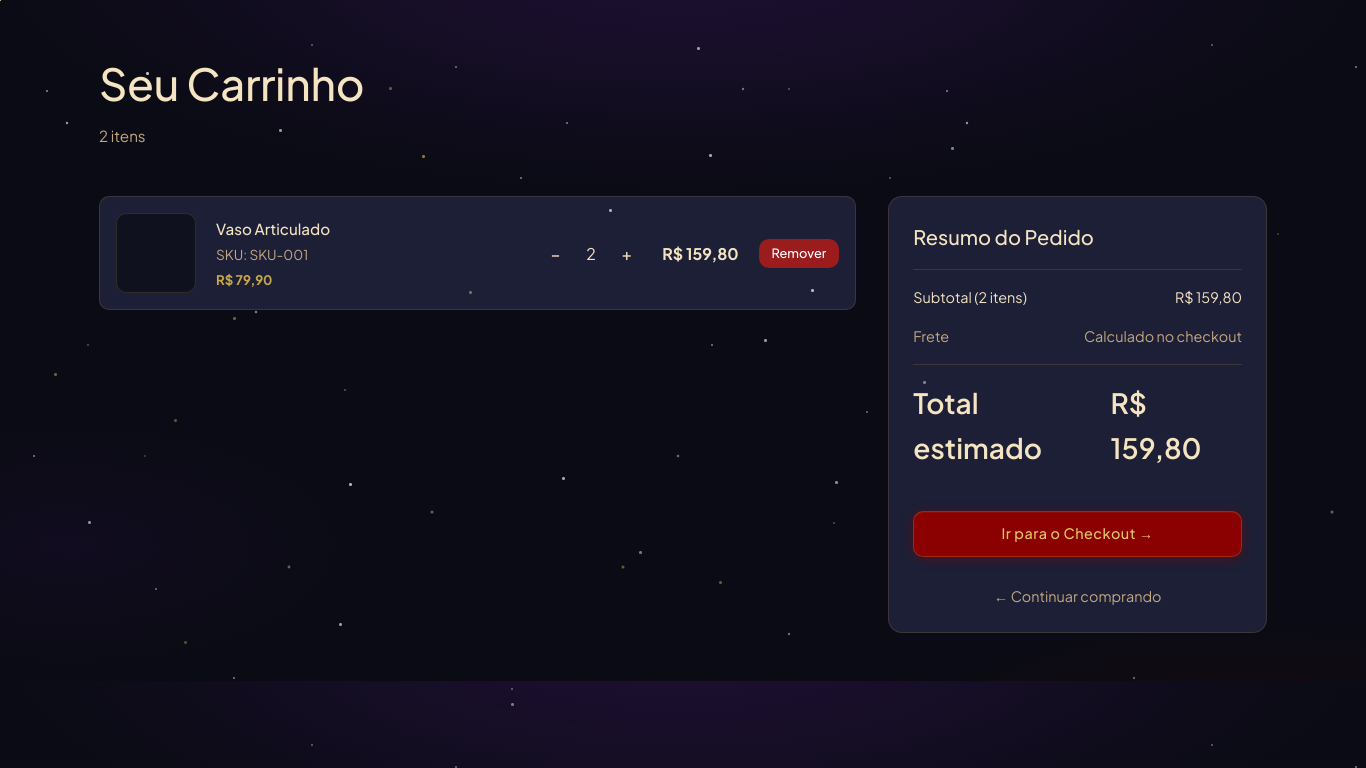
Test: CartPage — integração › interações › clicar em remover limpa o carrinho
The width and height of the screenshot is (1366, 768).
Click the button "Remover": (799, 253) top-left (759, 239), bottom-right (839, 268)
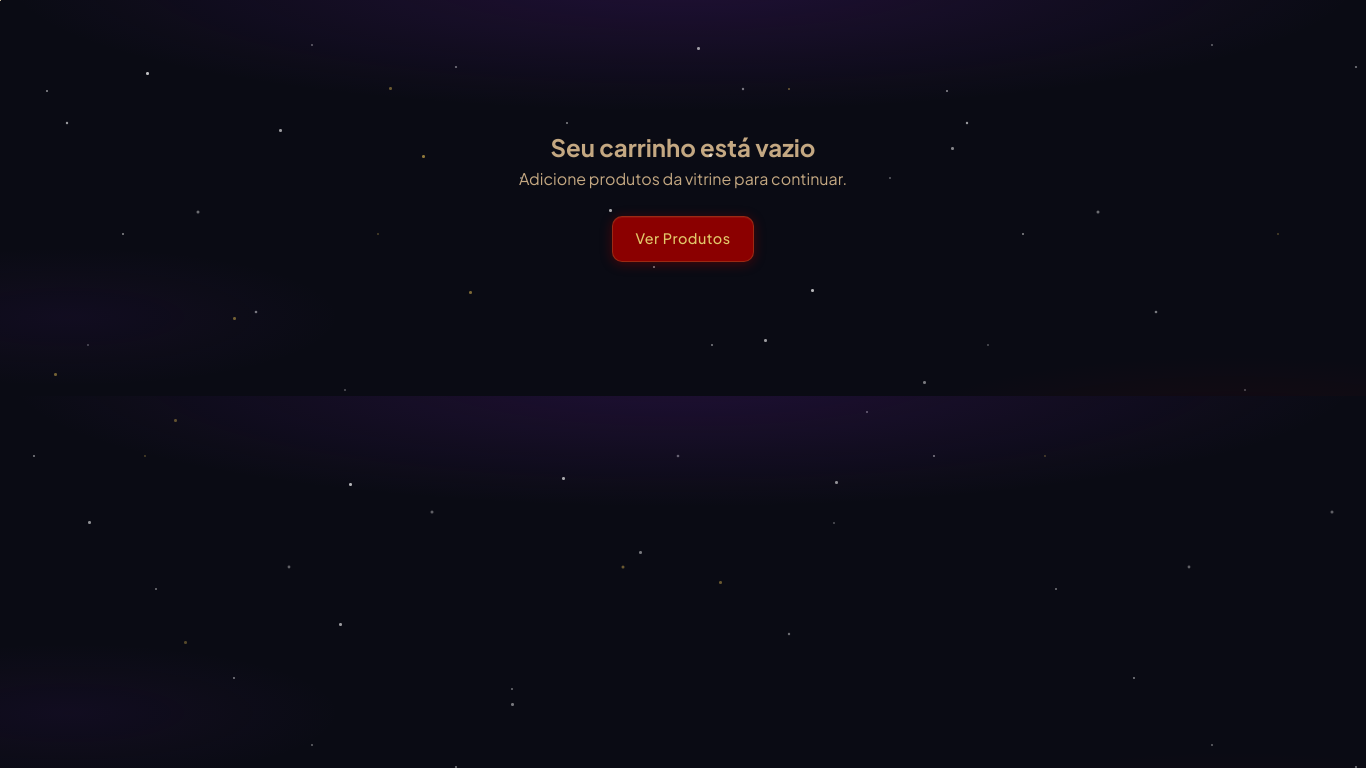
Expected: the heading "Seu carrinho está vazio" is shown, top-left (550, 132), bottom-right (815, 162)
